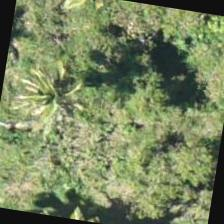Kelapa_Sawit: (0, 53, 91, 156), (8, 0, 97, 66)
